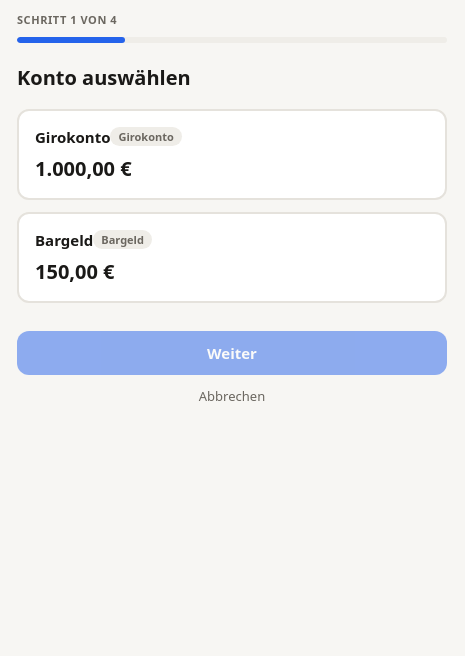
Test: TransactionForm (Multi-Step Wizard - Slice 3) › allows selecting an account tile, highlighting it, enabling Weiter button, and proceeding to Step 2
The width and height of the screenshot is (465, 656).
Expected: the button "Weiter" is disabled, [17,330,447,374]
Note: Click Girokonto tile
Click the button "Girokonto Girokonto 1.000,00 €". click: [73, 136]
box: [17,108,447,200]
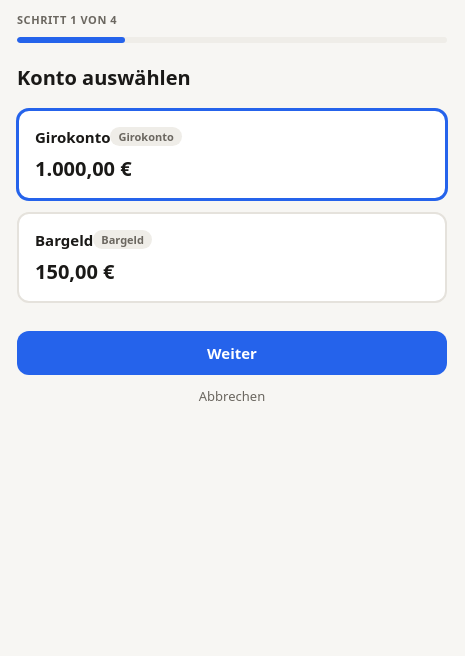
Result: the button "Weiter" is enabled
Note: Advance to Step 2
Click the button "Weiter". click: [232, 352]
box: [17,330,447,374]
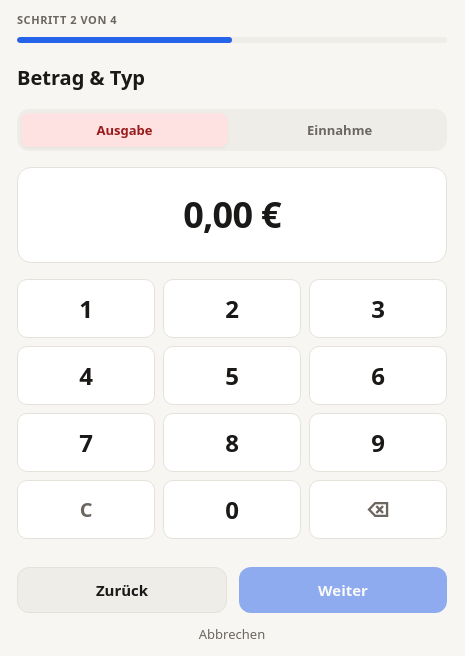
Expected: the button "Weiter" is shown, [239,566,447,612]
Result: the text "Schritt 2 von 4" is shown at [17,12,117,27]
Result: the button "Zurück" is shown at [17,566,227,612]
